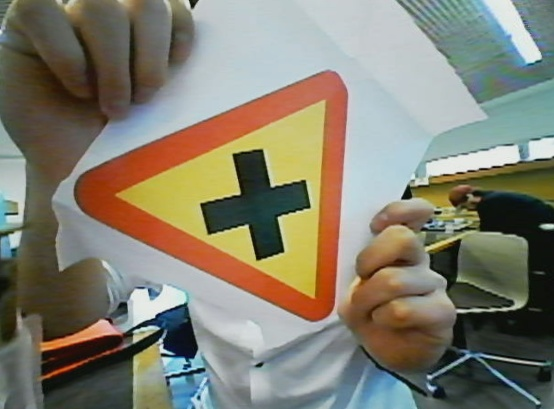junction: (77, 72, 351, 323)
